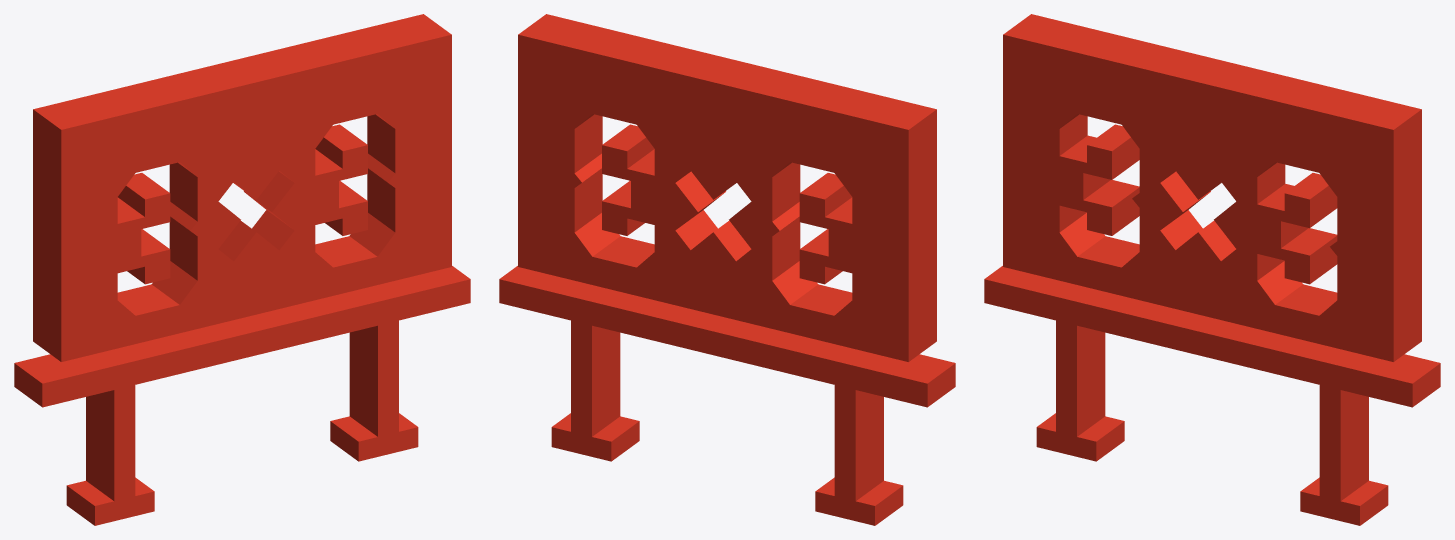
The model's file is Icon_Board.fbx.
3 renders of one model, left to right at view 1: azimuth 30°, elevation 25°; view 2: azimuth 150°, elevation 25°; view 3: azimuth 330°, elevation 25°, orthographic.
Parts seen in each view (by area): view 1: Icon_Board; view 2: Icon_Board; view 3: Icon_Board.
Boxes of the visible parts, left/top/right/bottom form: Icon_Board: left=14, top=14, right=470, bottom=525; Icon_Board: left=499, top=14, right=955, bottom=525; Icon_Board: left=984, top=14, right=1440, bottom=525.
Size of the model in its own units: 82.57 by 74.46 by 9.43.
